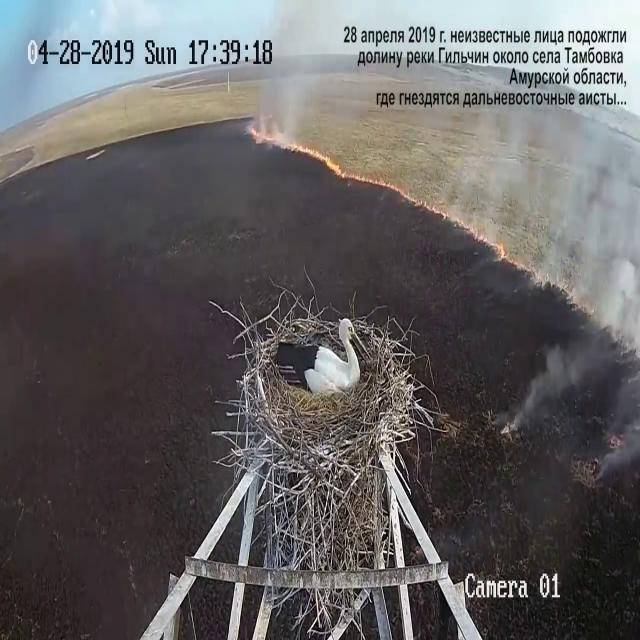Fire: (423, 204, 507, 264), (302, 148, 401, 192), (248, 126, 272, 142)
Smoke: (447, 100, 639, 483), (261, 3, 383, 153), (501, 329, 585, 437), (279, 20, 332, 152), (599, 416, 639, 484)
